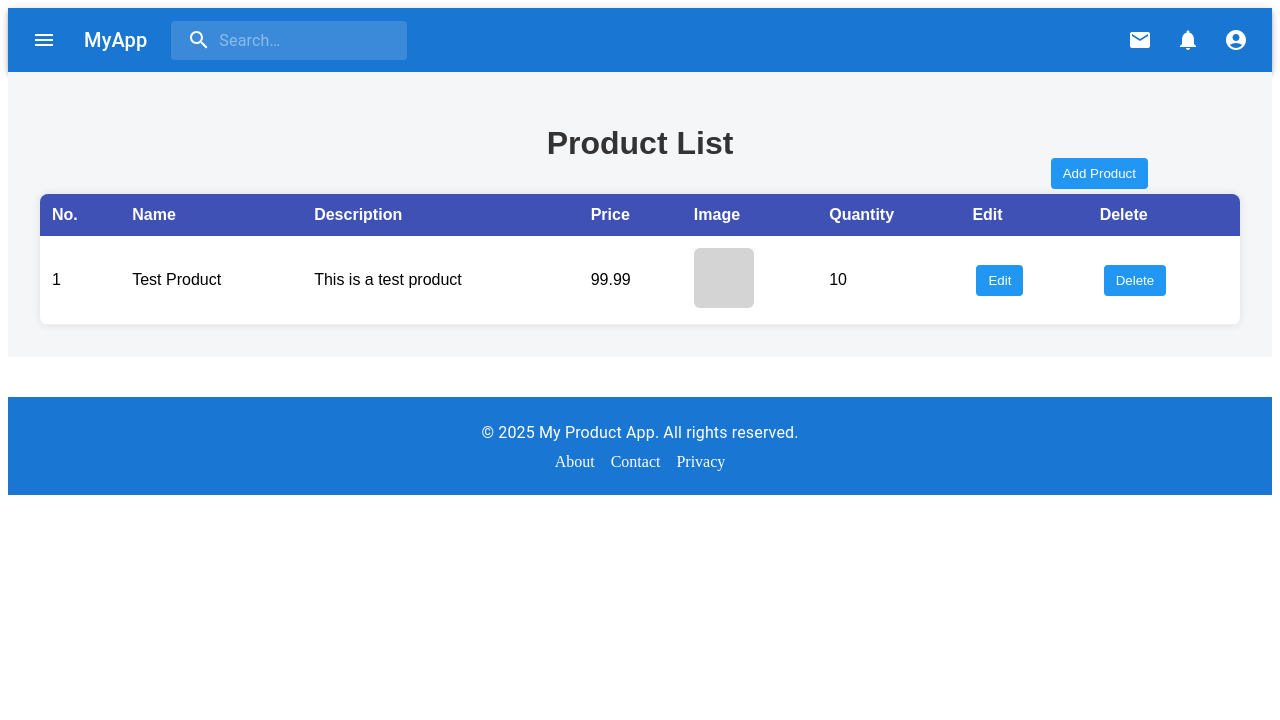
Scenario: Home Page - Product Actions › should delete a product successfully
Expected: the table with test id "product-table" is shown, [40,194,1240,325]
Click the button with test id "delete-button" at [1136, 281], box [1104,265,1167,296]
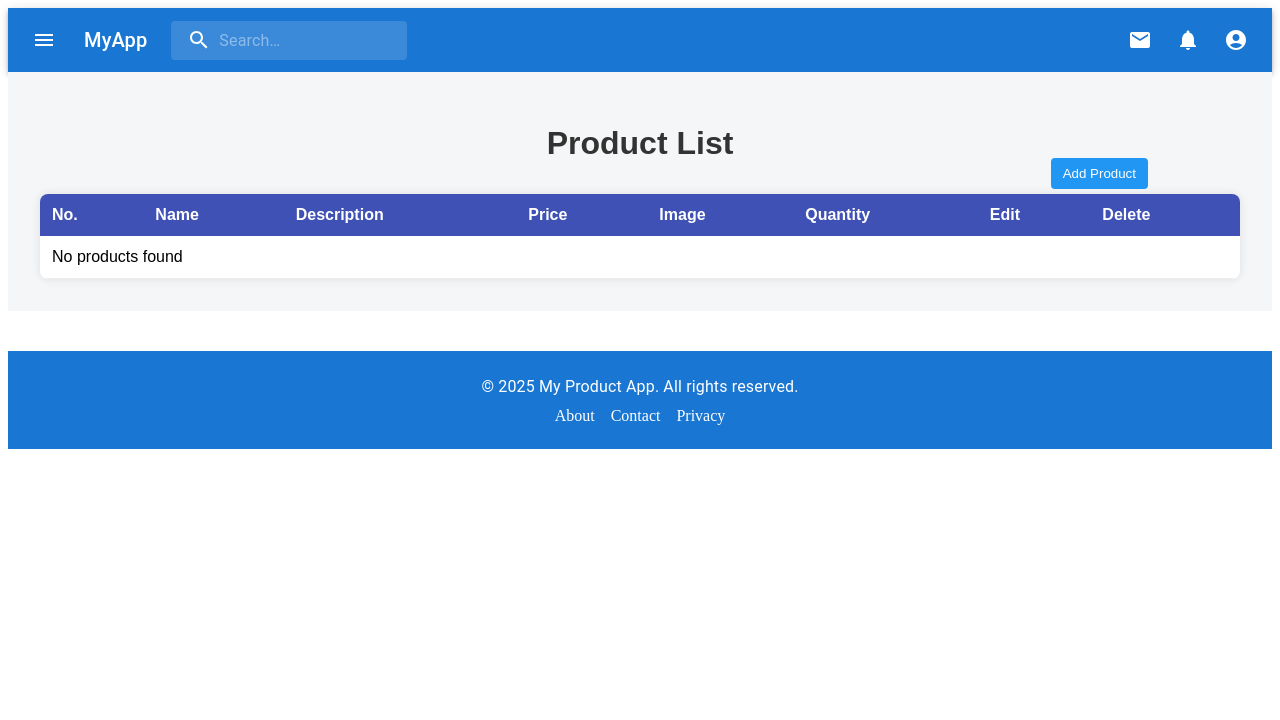
Expected: no rows with test id "product-row" are shown
